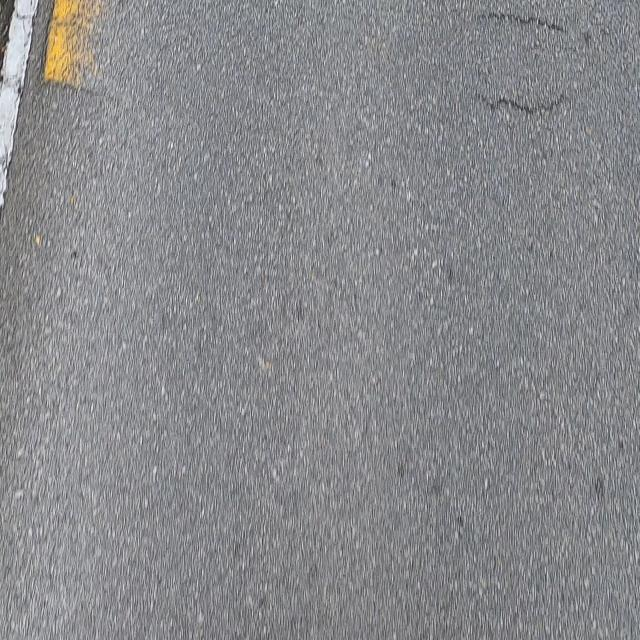Retak-Melintang: (479, 87, 564, 119), (479, 8, 571, 35)
